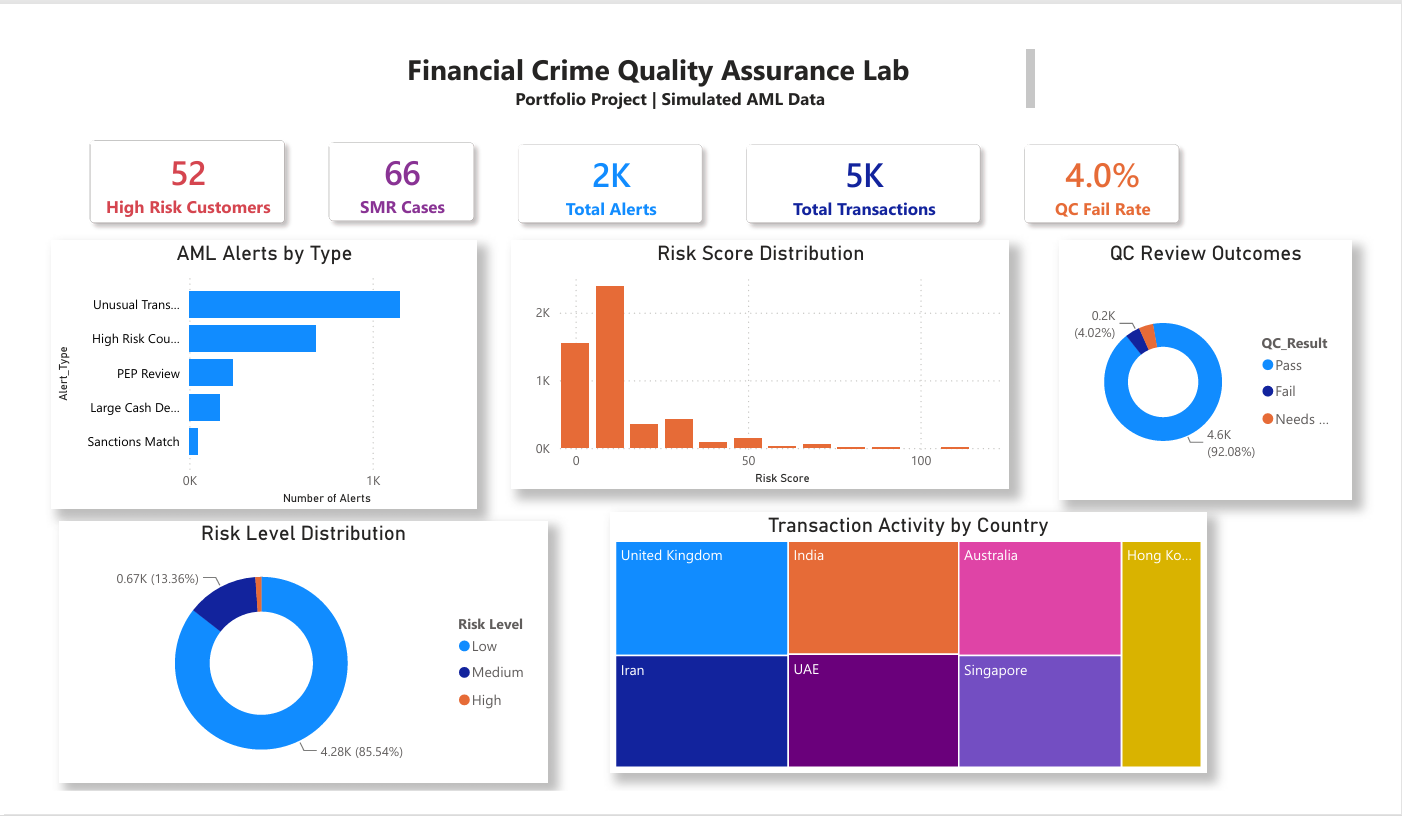

What the dashboard file says about the page in this screenshot:
{"tool":"powerbi","page":{"name":"Executive Overview","canvas":[1280,720],"ordinal":0},"visuals":[{"type":"cardVisual","fields":{"Data":["AML_Transactions.Total Transactions"]},"box":[656.3,79.8,279.1,132.3],"z":0},{"type":"cardVisual","fields":{"Data":["AML_Transactions.Total Alerts"]},"box":[440.1,79.8,232.5,132.3],"z":1000},{"type":"cardVisual","fields":{"Data":["AML_Transactions.High Risk Customers"]},"box":[35,75.9,242.2,136.2],"z":2000},{"type":"cardVisual","fields":{"Data":["AML_Transactions.QC Fail Rate"]},"box":[919.1,79.8,204.3,132.3],"z":3000},{"type":"cardVisual","fields":{"Data":["AML_Transactions.SMR Recommendations"]},"box":[260.9,77.8,195.5,132.3],"z":4000},{"type":"clusteredBarChart","title":"AML Alerts by Type","fields":{"Category":["AML_Transactions.Alert_Type"],"Y":["CountNonNull(AML_Transactions.Transaction_ID)"]},"box":[28.2,200.4,401.7,253.9],"z":5000},{"type":"columnChart","title":"Risk Score Distribution ","fields":{"Category":["AML_Transactions.Risk_Score"],"Y":["CountNonNull(AML_Transactions.Transaction_ID)"]},"box":[463,200.4,470.8,234.4],"z":6000},{"type":"donutChart","title":"QC Review Outcomes","fields":{"Y":["CountNonNull(AML_Transactions.Transaction_ID)"],"Category":["AML_Transactions.QC_Result"]},"box":[981.4,200.4,276.2,245.1],"z":7000},{"type":"treemap","title":"Transaction Activity by Country","fields":{"Group":["AML_Transactions.Country"],"Values":["CountNonNull(AML_Transactions.Transaction_ID)"]},"box":[556.4,457.1,563.2,246.1],"z":8000},{"type":"donutChart","title":"Risk Level Distribution","fields":{"Category":["AML_Transactions.Risk Level"],"Y":["CountNonNull(AML_Transactions.Transaction_ID)"]},"box":[35,464.9,462,247.1],"z":9000},{"type":"textbox","box":[358.9,13.6,604,66.1],"z":10000}]}

Visuals, with their boxes on the page's 1280x720 design canvas (x1, y1, x2, y2). These are canvas units, not pixel positions in the 1402x817 screenshot, which may show the page scaled, cropped or inside an application window:
cardVisual - AML_Transactions.Total Transactions: (656,80,935,212)
cardVisual - AML_Transactions.Total Alerts: (440,80,673,212)
cardVisual - AML_Transactions.High Risk Customers: (35,76,277,212)
cardVisual - AML_Transactions.QC Fail Rate: (919,80,1123,212)
cardVisual - AML_Transactions.SMR Recommendations: (261,78,456,210)
"AML Alerts by Type" clusteredBarChart: (28,200,430,454)
"Risk Score Distribution " columnChart: (463,200,934,435)
"QC Review Outcomes" donutChart: (981,200,1258,446)
"Transaction Activity by Country" treemap: (556,457,1120,703)
"Risk Level Distribution" donutChart: (35,465,497,712)
textbox: (359,14,963,80)
